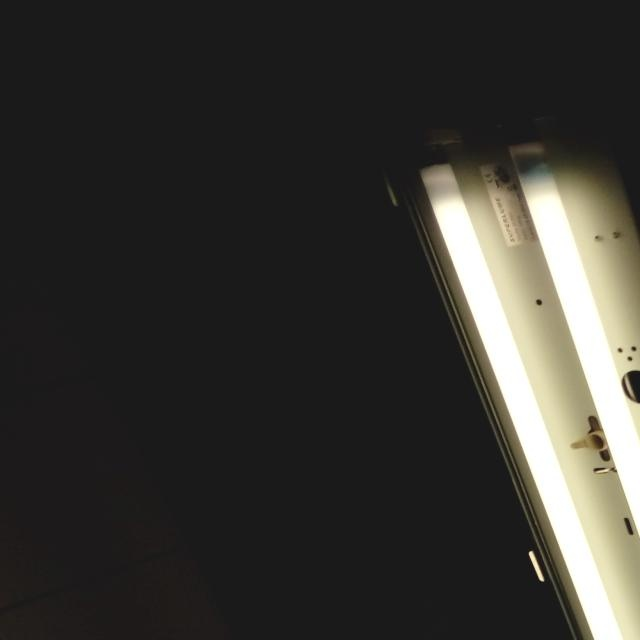fluorescent tube: (396, 117, 640, 640), (498, 132, 640, 640)
